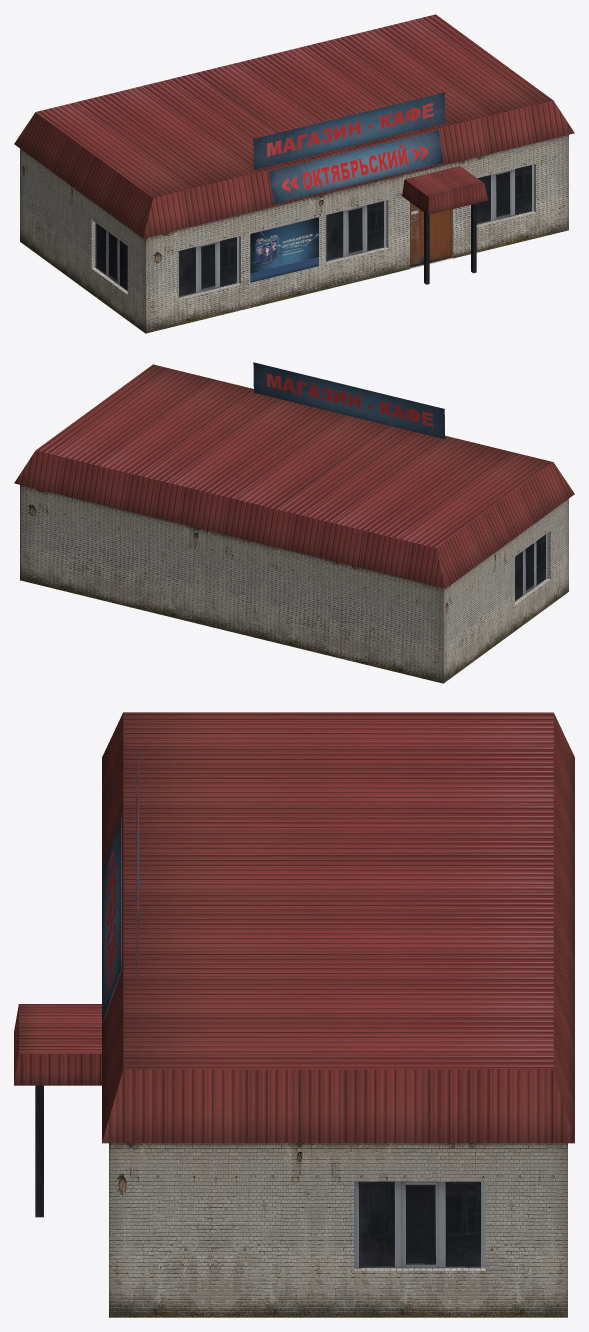
Rendered from r402_tushnolobovo_mag_oktiabrskiy.FBX.
3 renders of one model, top to bottom at view 1: azimuth 30°, elevation 25°; view 2: azimuth 150°, elevation 25°; view 3: azimuth 270°, elevation 25°, orthographic. The views are drawn at different scales.
Parts seen in each view (by area): view 1: r402_tushnolobovo_mag_oktiabrskiy; view 2: r402_tushnolobovo_mag_oktiabrskiy; view 3: r402_tushnolobovo_mag_oktiabrskiy.
Part boxes in pixels (left/top/right/bottom): r402_tushnolobovo_mag_oktiabrskiy: left=14, top=14, right=574, bottom=333; r402_tushnolobovo_mag_oktiabrskiy: left=14, top=362, right=574, bottom=683; r402_tushnolobovo_mag_oktiabrskiy: left=14, top=712, right=574, bottom=1317.
Bounding box in the file's own units: 1392 × 855 × 494.
